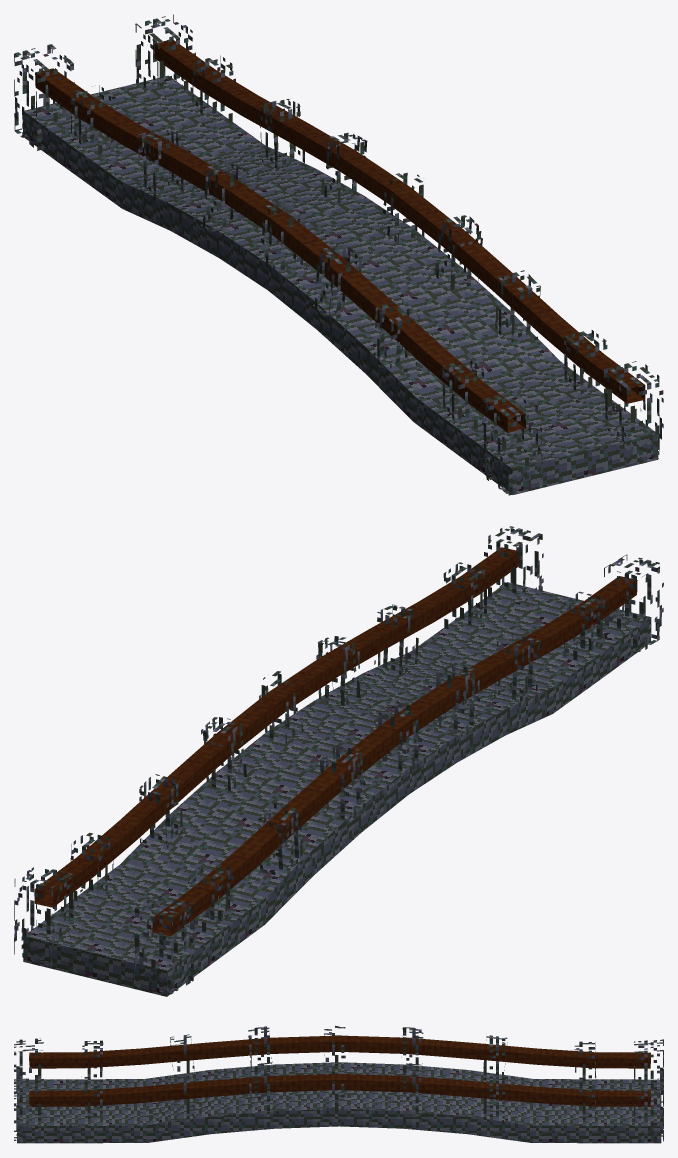
The model's file is bridge2.obj.
The picture shows the model from 3 angles, top to bottom: view 1: azimuth 30°, elevation 25°; view 2: azimuth 150°, elevation 25°; view 3: azimuth 270°, elevation 25°; orthographic projection. The views are drawn at different scales.
Visible parts, largest first — view 1: Geoset_000_Geoset_000_None_33.png, Geoset_000_Geoset_000_None_33.png.001_Geoset_000_Geoset_000_None, Geoset_001_Geoset_001_None.000_Geoset_001_Geoset_001_None.002; view 2: Geoset_000_Geoset_000_None_33.png, Geoset_000_Geoset_000_None_33.png.001_Geoset_000_Geoset_000_None, Geoset_001_Geoset_001_None.000_Geoset_001_Geoset_001_None.002; view 3: Geoset_000_Geoset_000_None_33.png, Geoset_000_Geoset_000_None_33.png.001_Geoset_000_Geoset_000_None, Geoset_001_Geoset_001_None.000_Geoset_001_Geoset_001_None.002.
Boxes of the visible parts, x1=… form: Geoset_000_Geoset_000_None_33.png: x1=23, y1=75, x2=658, y2=494; Geoset_000_Geoset_000_None_33.png.001_Geoset_000_Geoset_000_None: x1=35, y1=39, x2=645, y2=432; Geoset_001_Geoset_001_None.000_Geoset_001_Geoset_001_None.002: x1=14, y1=14, x2=663, y2=495; Geoset_000_Geoset_000_None_33.png: x1=23, y1=582, x2=650, y2=996; Geoset_000_Geoset_000_None_33.png.001_Geoset_000_Geoset_000_None: x1=34, y1=547, x2=637, y2=936; Geoset_001_Geoset_001_None.000_Geoset_001_Geoset_001_None.002: x1=14, y1=526, x2=663, y2=994; Geoset_000_Geoset_000_None_33.png: x1=17, y1=1062, x2=661, y2=1143; Geoset_000_Geoset_000_None_33.png.001_Geoset_000_Geoset_000_None: x1=29, y1=1035, x2=650, y2=1106; Geoset_001_Geoset_001_None.000_Geoset_001_Geoset_001_None.002: x1=14, y1=1025, x2=663, y2=1143.
Size of the model in its own units: 5.03 by 3.17 by 26.26.
